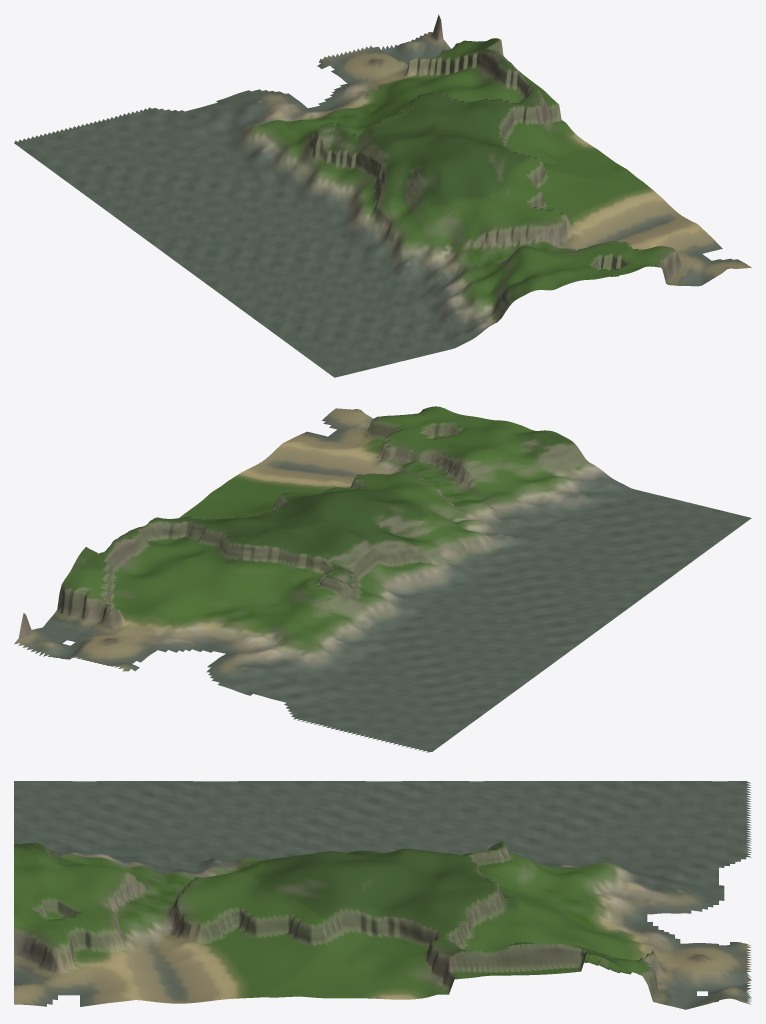
File: coast_tile_x0z2.glb
3 renders of one model, top to bottom at view 1: azimuth 30°, elevation 25°; view 2: azimuth 150°, elevation 25°; view 3: azimuth 270°, elevation 25°, orthographic. The views are drawn at different scales.
Visible parts, largest first — view 1: coast_tile_x0z2; view 2: coast_tile_x0z2; view 3: coast_tile_x0z2.
Part boxes in pixels (x1,y1,x2,y2): coast_tile_x0z2: (14, 14, 751, 377); coast_tile_x0z2: (14, 406, 751, 752); coast_tile_x0z2: (14, 781, 751, 1009).
Size of the model in its own units: 600 by 82.37 by 804.
